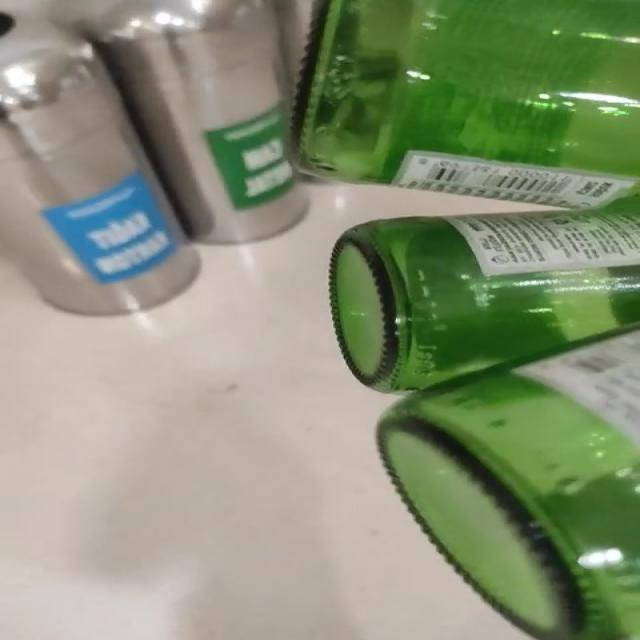Glass: (297, 0, 639, 640)
